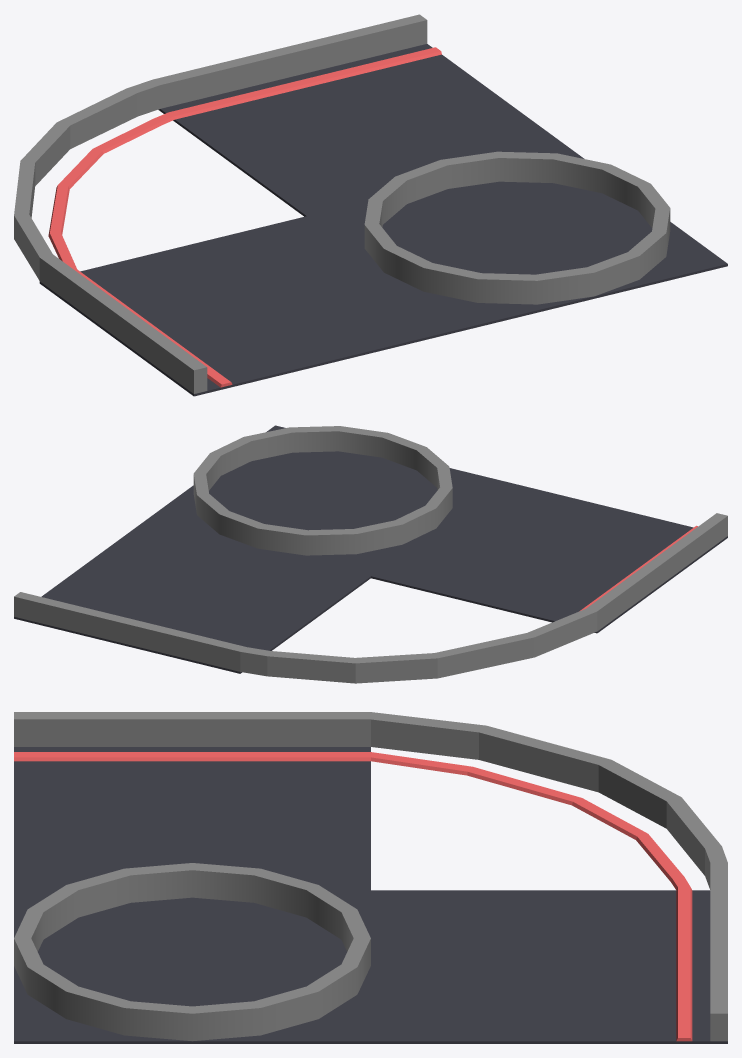
File: 3x3_turn.glb
3 views of the same model, one above another, from view 1: azimuth 30°, elevation 25°; view 2: azimuth 150°, elevation 25°; view 3: azimuth 270°, elevation 25° (orthographic). The views are drawn at different scales.
Visible parts, largest first — view 1: 3x3 turn.002, 3x3 turn.008, 3x3 turn.023, Circle.001, 3x3 turn.018, 3x3 turn.014, 3x3 turn.001; view 2: 3x3 turn.002, 3x3 turn.008, 3x3 turn.023, Circle.001, 3x3 turn.014, 3x3 turn.018, 3x3 turn.001; view 3: 3x3 turn.008, 3x3 turn.002, 3x3 turn.023, Circle.001, 3x3 turn.014, 3x3 turn.001, 3x3 turn.018.
Part boxes in pixels (x1=…): 3x3 turn.002: x1=39, y1=216, x2=460, y2=396; 3x3 turn.008: x1=158, y1=44, x2=573, y2=216; 3x3 turn.023: x1=307, y1=151, x2=727, y2=331; Circle.001: x1=364, y1=151, x2=670, y2=304; 3x3 turn.018: x1=153, y1=14, x2=441, y2=119; 3x3 turn.014: x1=14, y1=79, x2=174, y2=280; 3x3 turn.001: x1=39, y1=254, x2=232, y2=393; 3x3 turn.002: x1=371, y1=480, x2=727, y2=633; 3x3 turn.008: x1=14, y1=521, x2=370, y2=673; 3x3 turn.023: x1=145, y1=425, x2=500, y2=576; Circle.001: x1=193, y1=426, x2=452, y2=555; 3x3 turn.014: x1=240, y1=608, x2=597, y2=683; 3x3 turn.018: x1=14, y1=592, x2=246, y2=671; 3x3 turn.001: x1=579, y1=513, x2=727, y2=631; 3x3 turn.008: x1=371, y1=890, x2=727, y2=1043; 3x3 turn.002: x1=14, y1=747, x2=370, y2=890; 3x3 turn.023: x1=14, y1=890, x2=370, y2=1043; Circle.001: x1=14, y1=863, x2=370, y2=1041; 3x3 turn.014: x1=371, y1=712, x2=727, y2=889; 3x3 turn.001: x1=14, y1=712, x2=370, y2=761; 3x3 turn.018: x1=676, y1=863, x2=727, y2=1041.
Bounding box in the file's own units: 20 × 0.9339 × 20.
